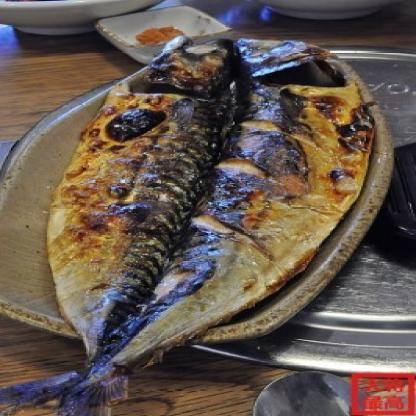Peixe: (0, 37, 363, 416)
